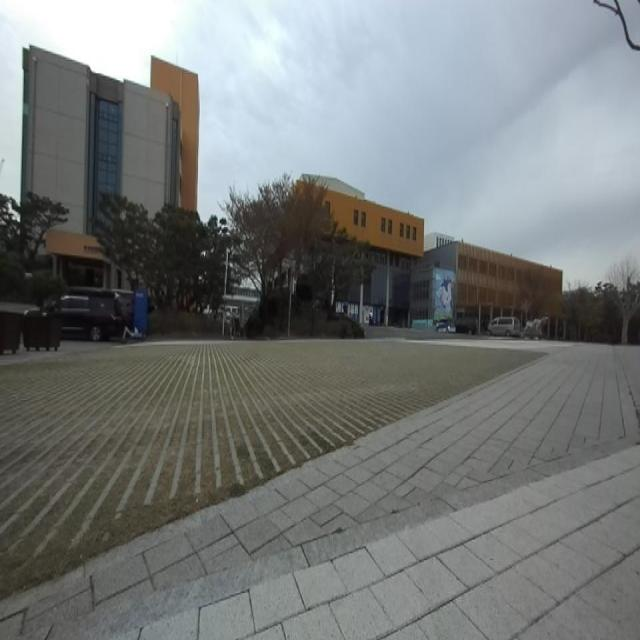sidewalk: (0, 344, 640, 639), (406, 335, 572, 353)
